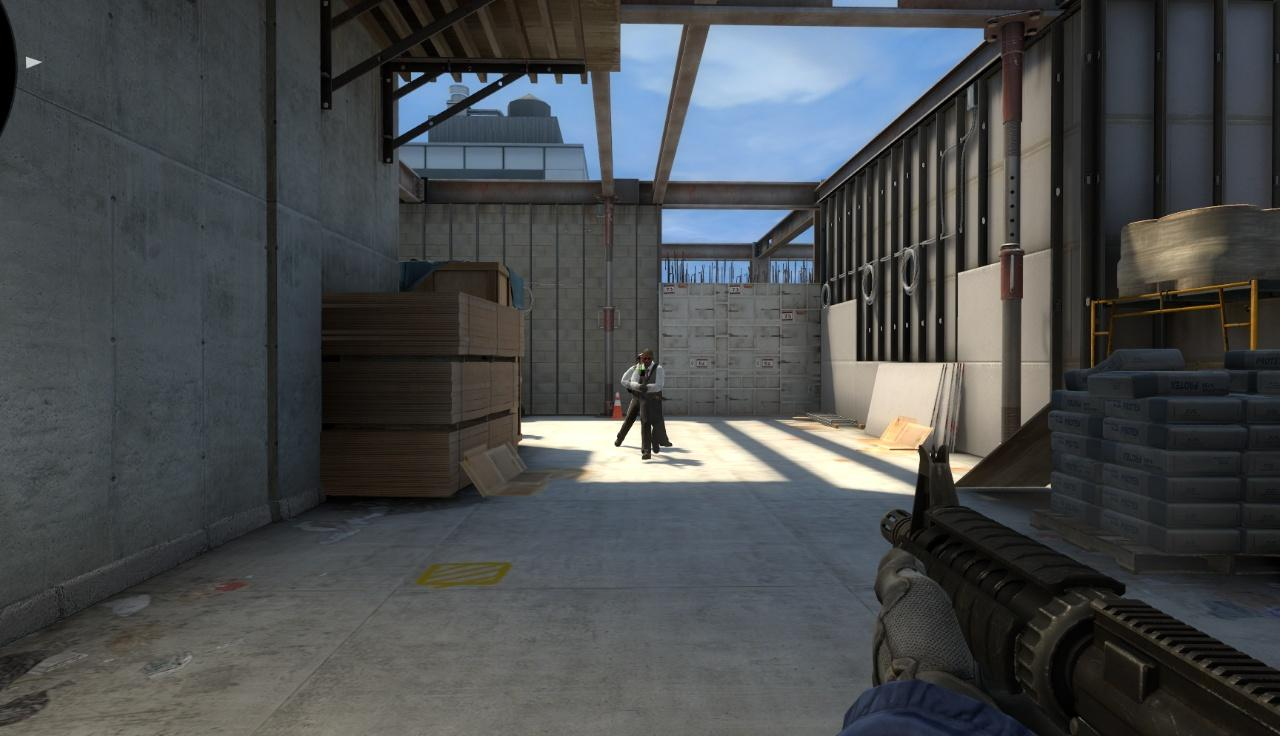rifle: (867, 443, 1277, 732)
tt: (630, 349, 667, 459)
tthead: (639, 350, 655, 368)
